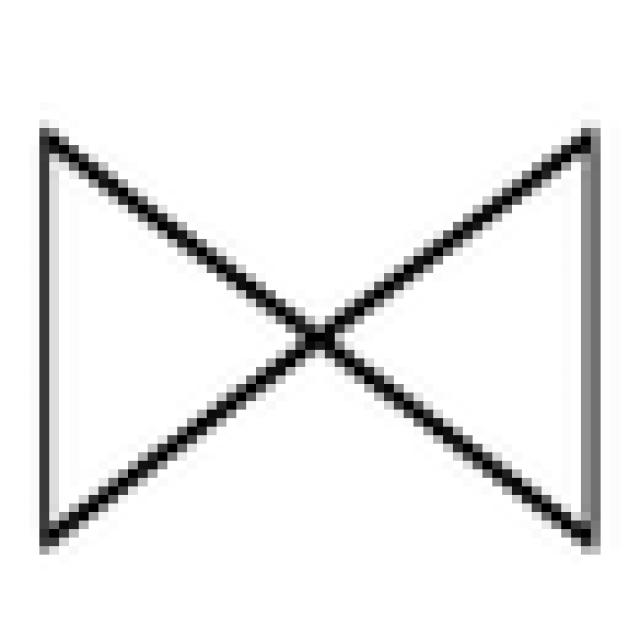Gate valve: (39, 128, 591, 538)
